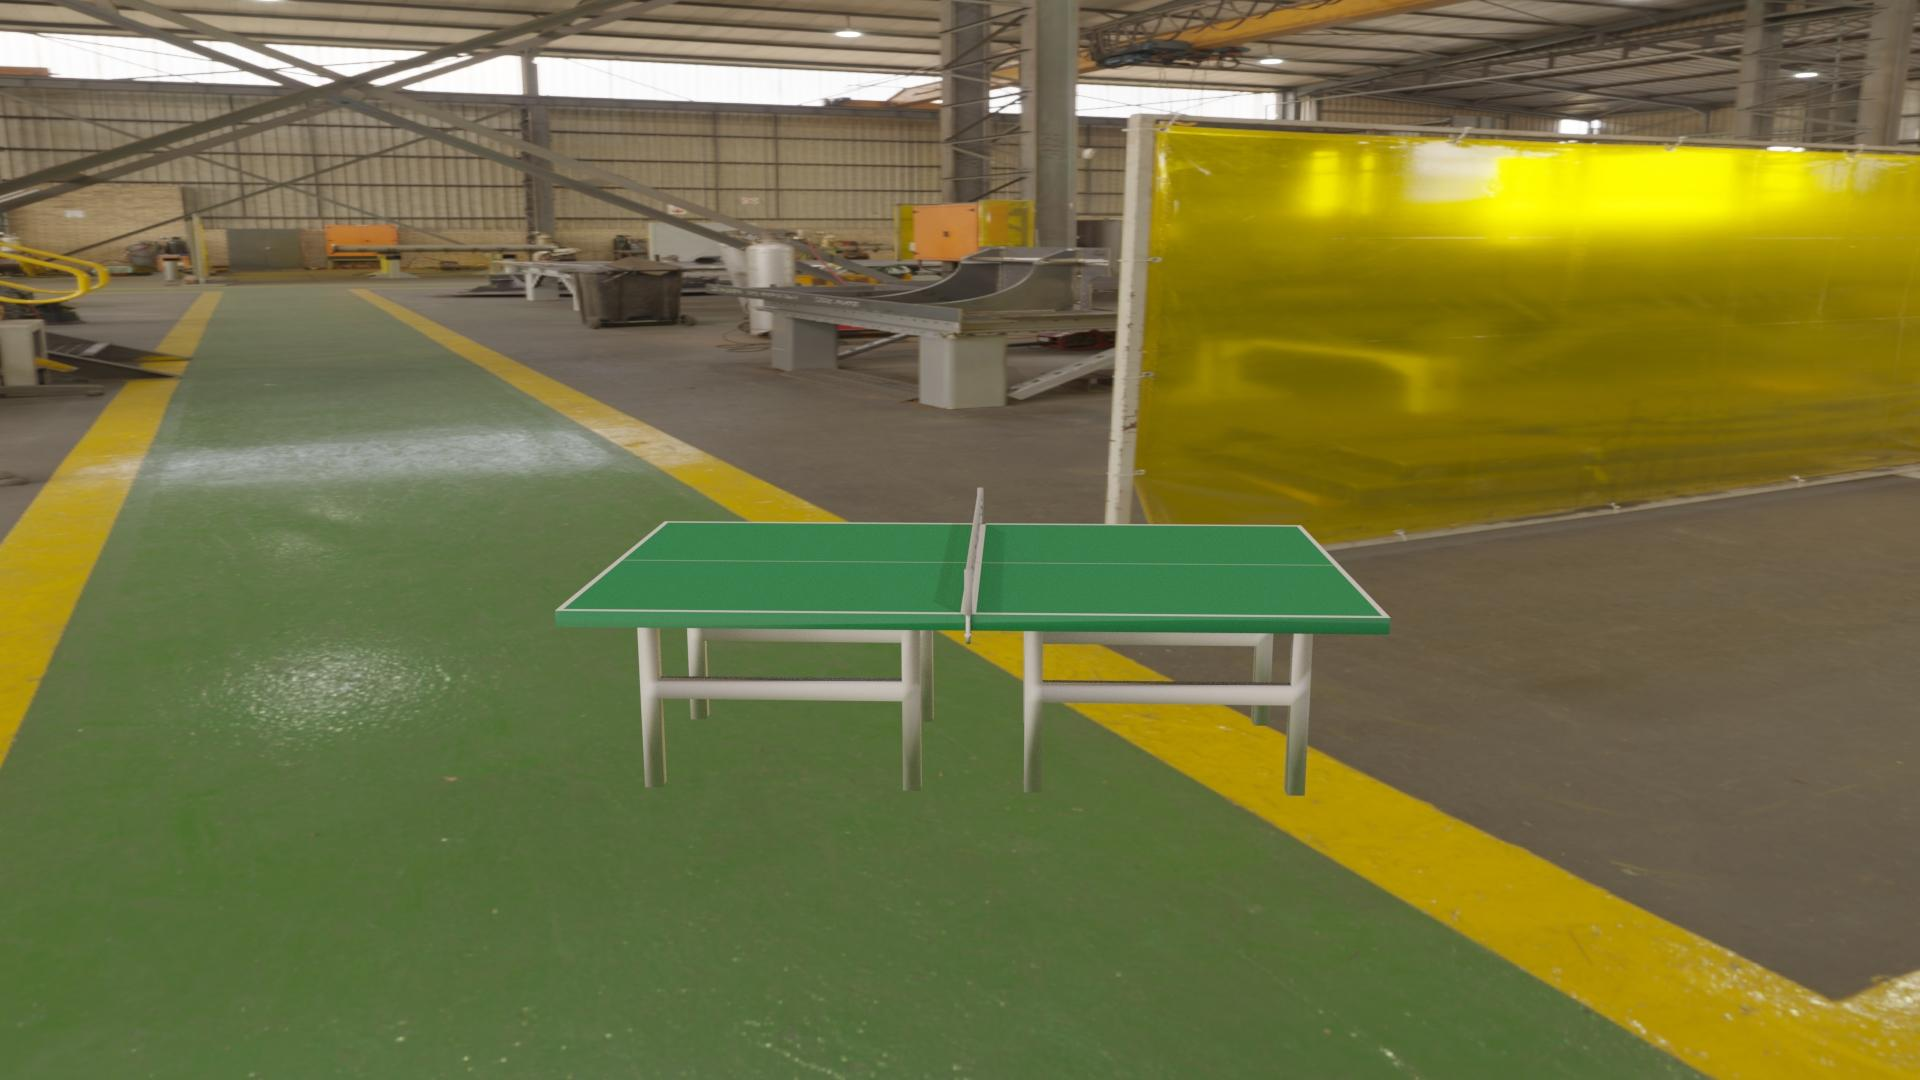table: (563, 522, 1383, 616)
